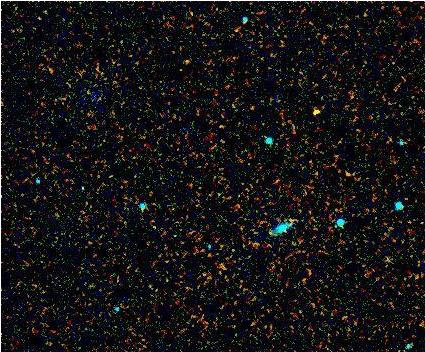star: (302, 95, 332, 125)
